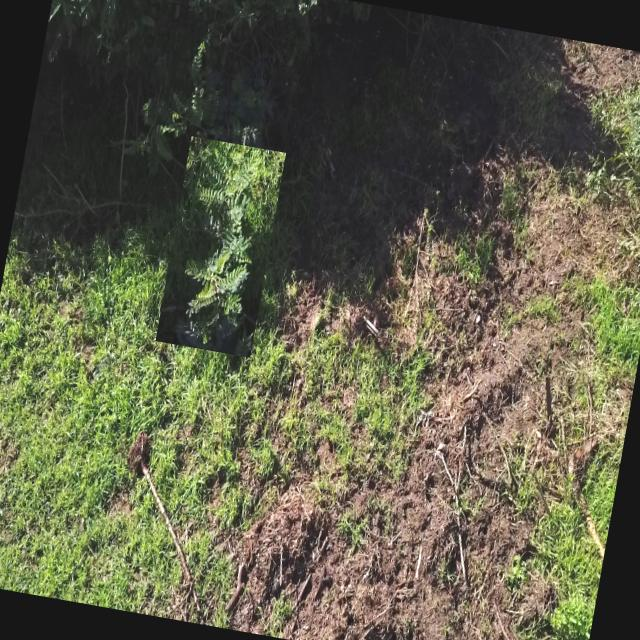Mysore-Thorn-Weed: (155, 136, 285, 357)
